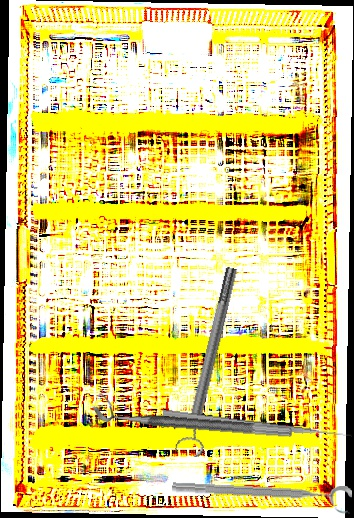Fixation Ring: (171, 264, 249, 459), (91, 392, 294, 439), (171, 477, 353, 516)
Pusher: (162, 409, 353, 440)
